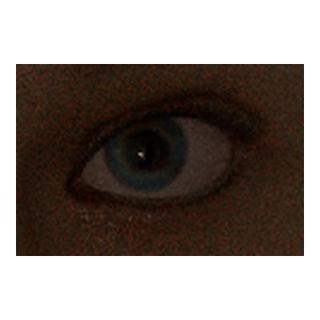pupil: (128, 131, 163, 166)
